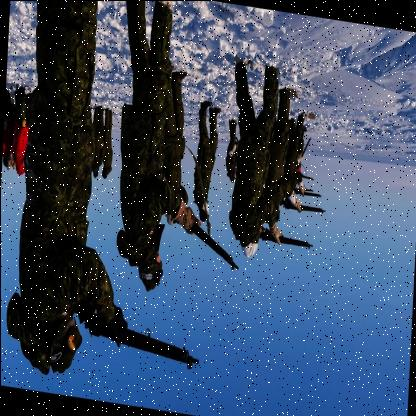rifle: (71, 290, 209, 378), (183, 218, 244, 272), (258, 224, 316, 254), (280, 197, 332, 221)
